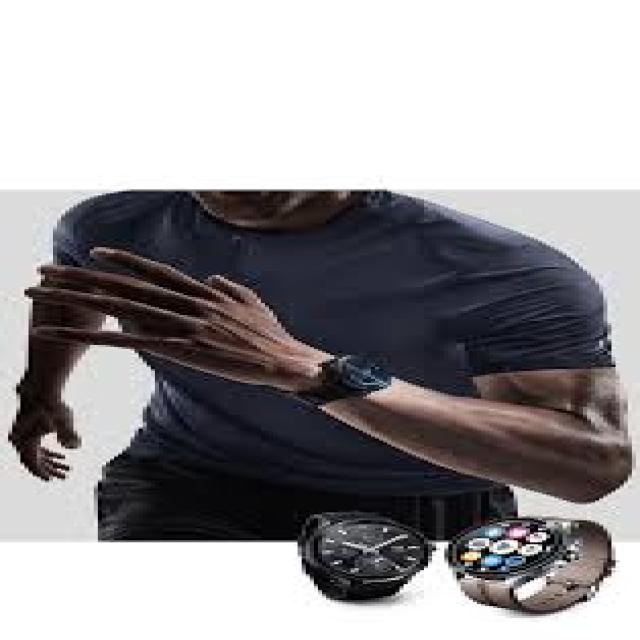watch: (258, 328, 386, 432)
